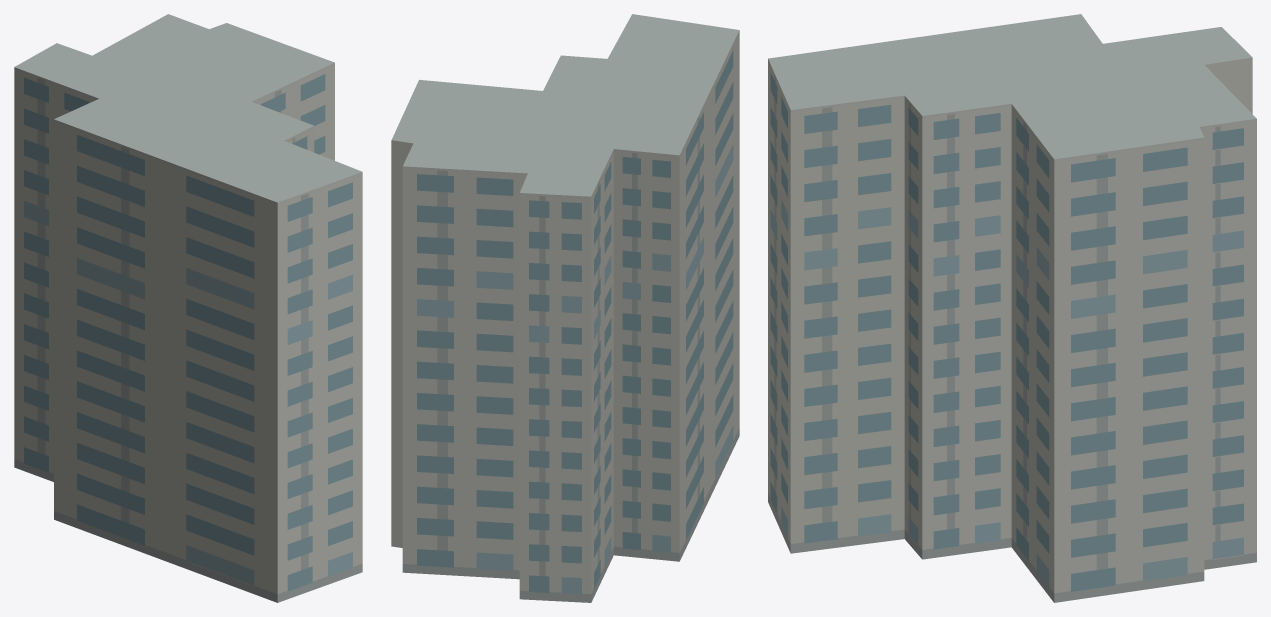
The model's file is residential-95968f3e-99de-4016-92b8-9089691b3ccc.glb.
3 views of the same model, side by side, from view 1: azimuth 30°, elevation 25°; view 2: azimuth 150°, elevation 25°; view 3: azimuth 270°, elevation 25° (orthographic). The views are drawn at different scales.
Parts seen in each view (by area): view 1: residential-95968f3e-99de-4016-92b8-9089691b3ccc.tmp; view 2: residential-95968f3e-99de-4016-92b8-9089691b3ccc.tmp; view 3: residential-95968f3e-99de-4016-92b8-9089691b3ccc.tmp.
Boxes of the visible parts, box(x1,y1,x2,y2) form: residential-95968f3e-99de-4016-92b8-9089691b3ccc.tmp: box(14, 14, 362, 602); residential-95968f3e-99de-4016-92b8-9089691b3ccc.tmp: box(391, 14, 739, 602); residential-95968f3e-99de-4016-92b8-9089691b3ccc.tmp: box(768, 14, 1256, 602).
Bounding box in the file's own units: 35.16 × 50 × 49.95.
